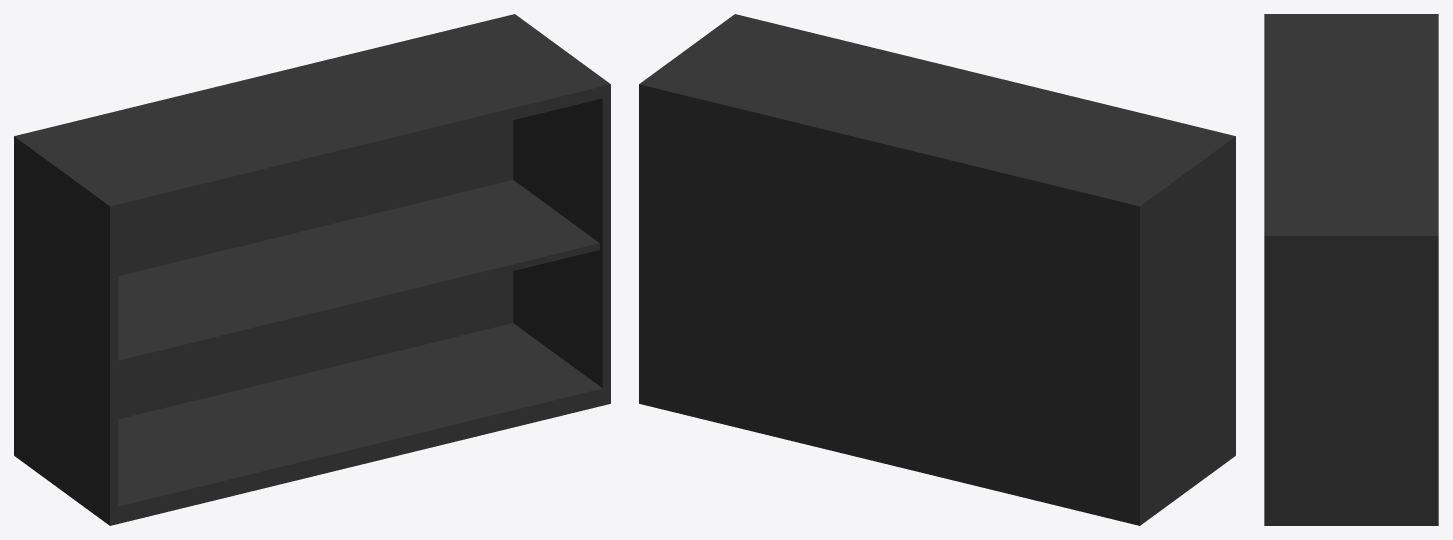
File: shelf_1.glb
3 views of the same model, side by side, from view 1: azimuth 30°, elevation 25°; view 2: azimuth 150°, elevation 25°; view 3: azimuth 270°, elevation 25° (orthographic). The views are drawn at different scales.
Parts seen in each view (by area): view 1: Expositor 2x1 B; view 2: Expositor 2x1 B; view 3: Expositor 2x1 B.
Boxes of the visible parts, x1,y1,x2,y2 form: Expositor 2x1 B: [14, 14, 610, 525]; Expositor 2x1 B: [639, 14, 1235, 525]; Expositor 2x1 B: [1264, 14, 1438, 525].
Bounding box in the file's own units: 1.37 × 0.8324 × 0.4532.
1 material, 1 textured.
